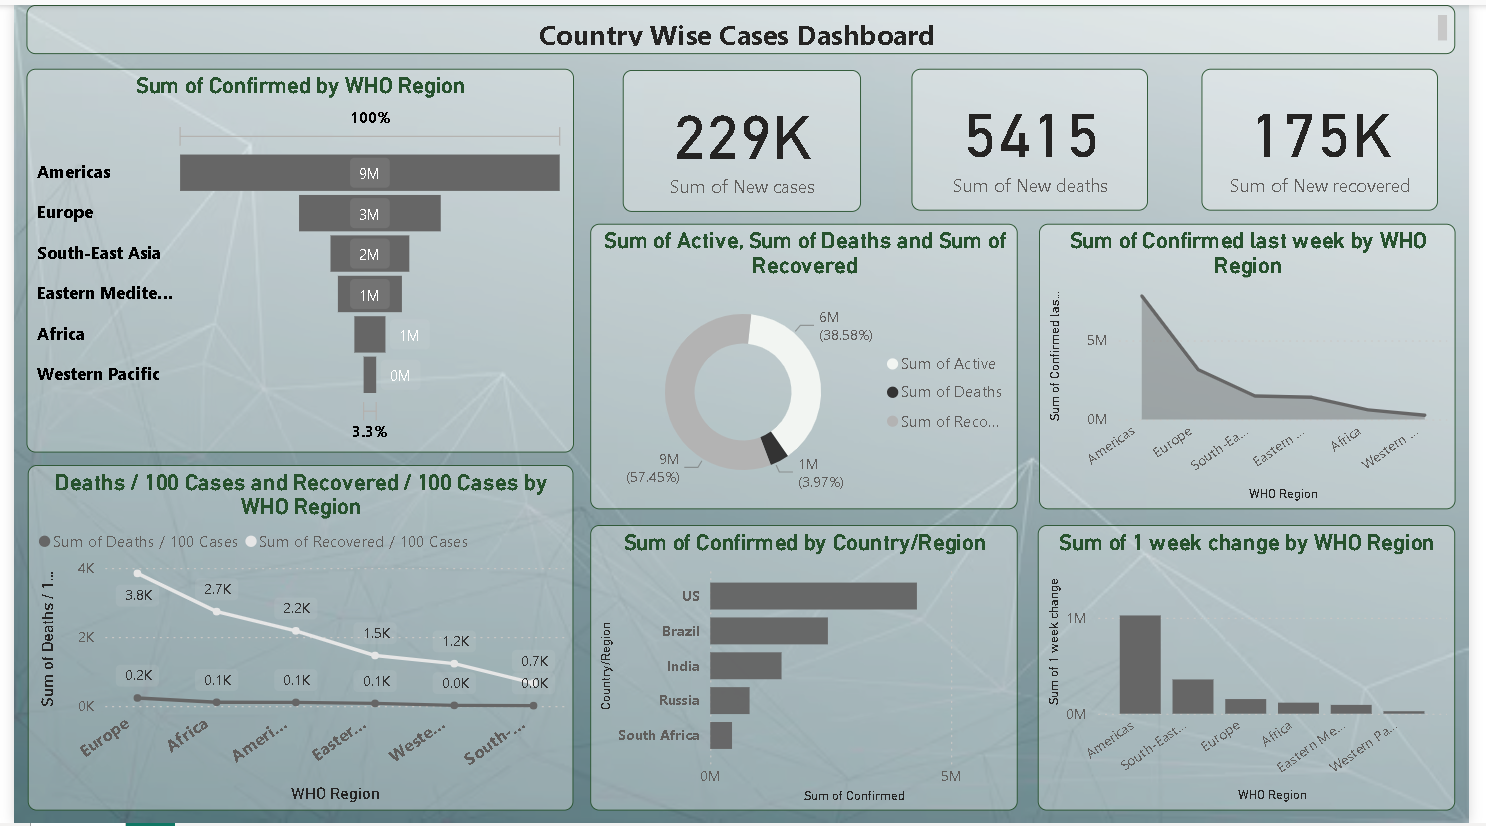

Layout of this report page (visuals, bound fields, positions):
{"tool":"powerbi","page":{"name":"Page 1","canvas":[1280,720],"ordinal":0},"visuals":[{"type":"funnel","fields":{"Category":["country_wise_latest.WHO Region"],"Y":["Sum(country_wise_latest.Confirmed)"]},"box":[11.2,56.2,481.2,337.5],"z":0},{"type":"textbox","box":[10.7,0,1257.1,42.9],"z":1000},{"type":"lineChart","title":"Deaths / 100 Cases and Recovered / 100 Cases by WHO Region","fields":{"Category":["country_wise_latest.WHO Region"],"Y":["Sum(country_wise_latest.Deaths / 100 Cases)","Sum(country_wise_latest.Recovered / 100 Cases)"]},"box":[12.5,405,480,303.8],"z":2000},{"type":"donutChart","fields":{"Y":["Sum(country_wise_latest.Active)","Sum(country_wise_latest.Deaths)","Sum(country_wise_latest.Recovered)"]},"box":[507.1,192.9,376.2,251.2],"z":3000},{"type":"clusteredBarChart","fields":{"Y":["Sum(country_wise_latest.Confirmed)"],"Category":["country_wise_latest.Country/Region"]},"box":[507.1,457.1,376.2,251.2],"z":4000},{"type":"card","fields":{"Values":["Sum(country_wise_latest.New cases)"]},"box":[535.7,57.1,209.5,125],"z":5000},{"type":"card","fields":{"Values":["Sum(country_wise_latest.New deaths)"]},"box":[789.3,56,208.3,125],"z":6000},{"type":"card","fields":{"Values":["Sum(country_wise_latest.New recovered)"]},"box":[1044.1,56,208.3,125],"z":7000},{"type":"areaChart","fields":{"Y":["Sum(country_wise_latest.Confirmed last week)"],"Category":["country_wise_latest.WHO Region"]},"box":[901.2,192.9,366.7,251.2],"z":8000},{"type":"clusteredColumnChart","fields":{"Y":["Sum(country_wise_latest.1 week change)"],"Category":["country_wise_latest.WHO Region"]},"box":[901,457,367,251],"z":9000}]}

Visuals, with their boxes in screenshot pixels (x1, y1, x2, y2), scaled from the page's 1280x720 canvas onto the 1486x826 screenshot:
funnel - country_wise_latest.WHO Region x Sum(country_wise_latest.Confirmed): left=13, top=64, right=572, bottom=452
textbox: left=12, top=0, right=1472, bottom=49
"Deaths / 100 Cases and Recovered / 100 Cases by WHO Region" lineChart: left=15, top=465, right=572, bottom=813
donutChart - Sum(country_wise_latest.Active) x Sum(country_wise_latest.Deaths): left=589, top=221, right=1025, bottom=509
clusteredBarChart - Sum(country_wise_latest.Confirmed) x country_wise_latest.Country/Region: left=589, top=524, right=1025, bottom=813
card - Sum(country_wise_latest.New cases): left=622, top=66, right=865, bottom=209
card - Sum(country_wise_latest.New deaths): left=916, top=64, right=1158, bottom=208
card - Sum(country_wise_latest.New recovered): left=1212, top=64, right=1454, bottom=208
areaChart - Sum(country_wise_latest.Confirmed last week) x country_wise_latest.WHO Region: left=1046, top=221, right=1472, bottom=509
clusteredColumnChart - Sum(country_wise_latest.1 week change) x country_wise_latest.WHO Region: left=1046, top=524, right=1472, bottom=812
